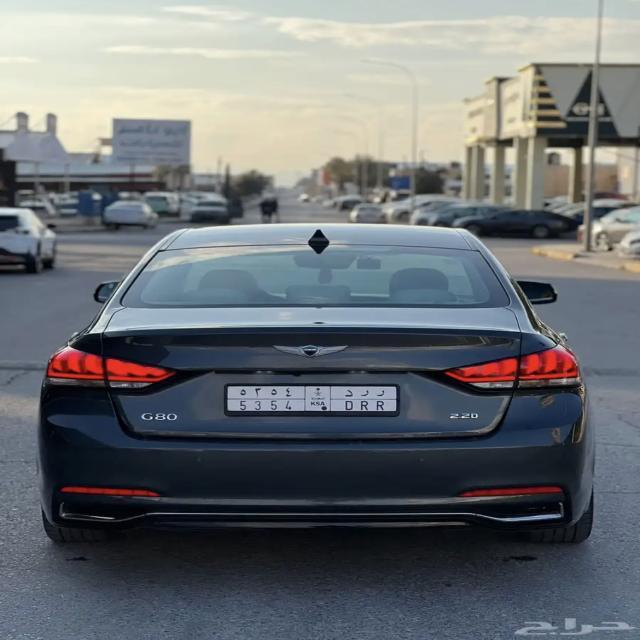license_plate: (225, 383, 399, 413)
